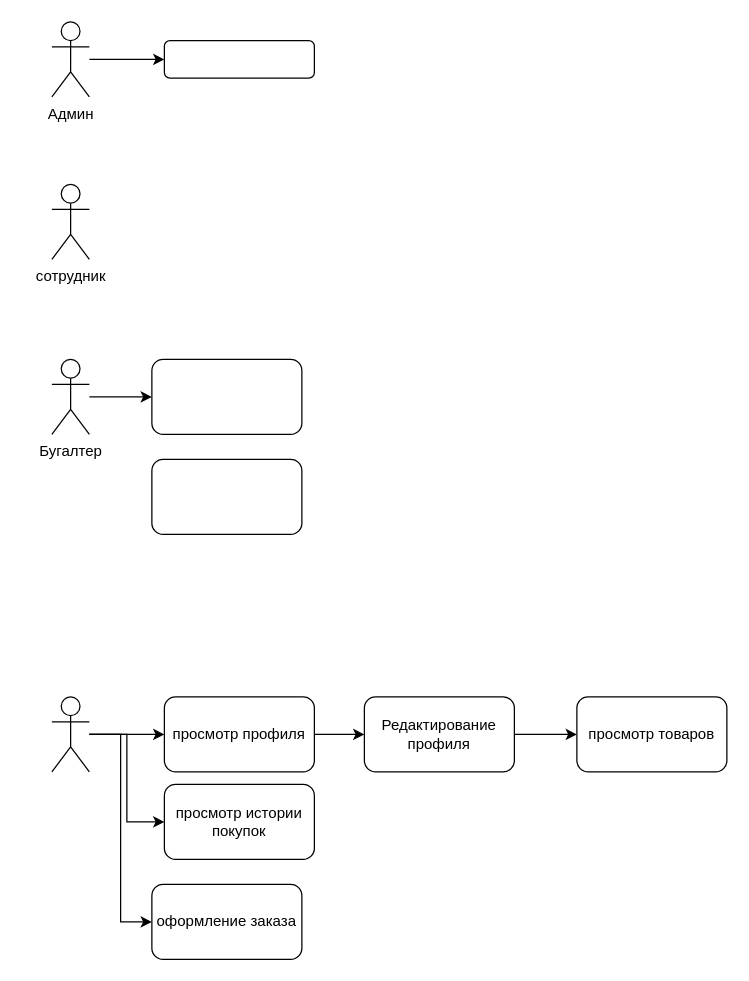
This 749x981 diagram has some shape labels left out. Each missing label, with the centre of its shape:
"внесение скидок" goes at point (226, 496).
"Все права" goes at point (238, 58).
"Пользователь" goes at point (70, 734).
"редактирование цены на игру" goes at point (226, 396).
